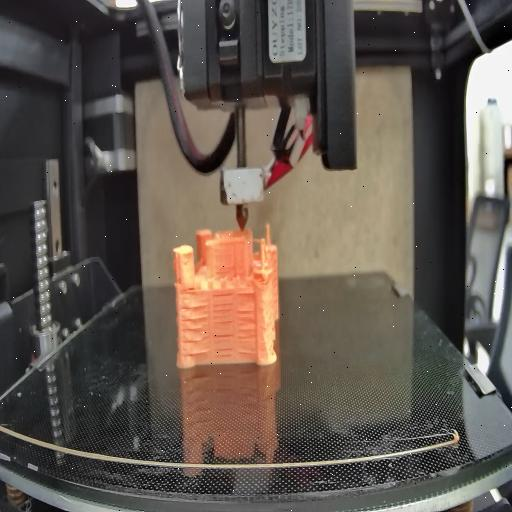cracks: (213, 290, 235, 356), (184, 302, 210, 356), (237, 308, 257, 356), (236, 288, 254, 298), (188, 284, 202, 295), (214, 264, 232, 272)
